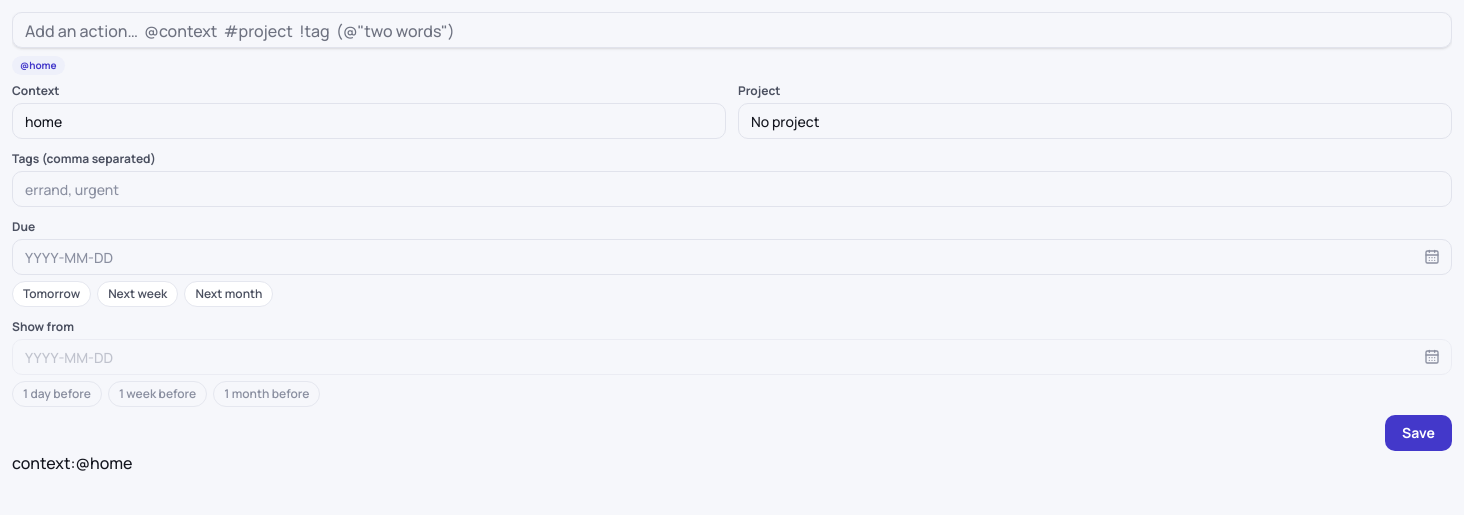
QuickAdd defaults › ignores a remembered context that no longer exists
The width and height of the screenshot is (1464, 515).
Expected: the list item "context:@home" is shown, [12, 452, 132, 474]
Click the field named "Add an action".
click(732, 30)  # box [13, 13, 1451, 47]
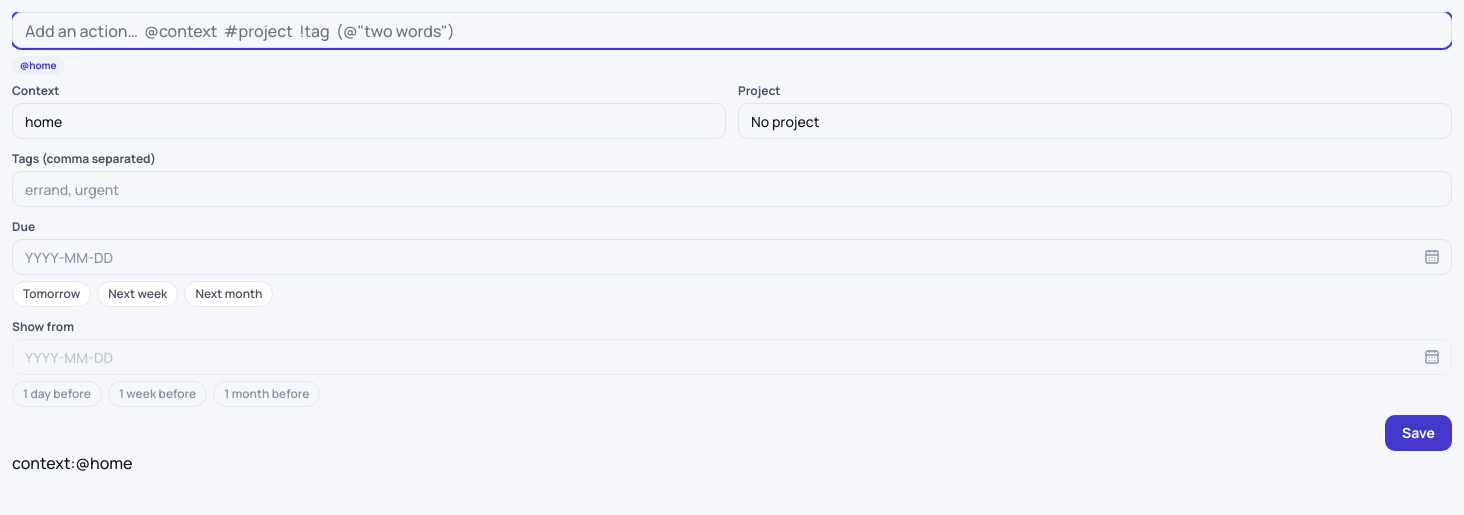
Type keys "buy milk{Enter}"
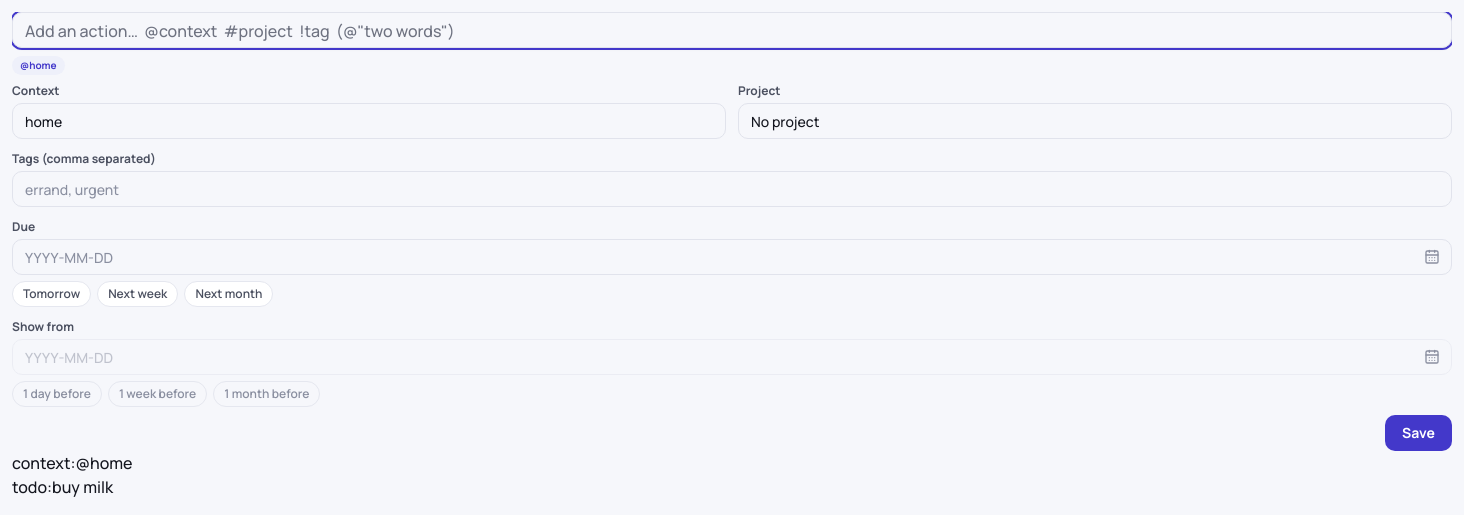
Expected: the list item "todo:buy milk" is shown, [12, 476, 113, 498]
